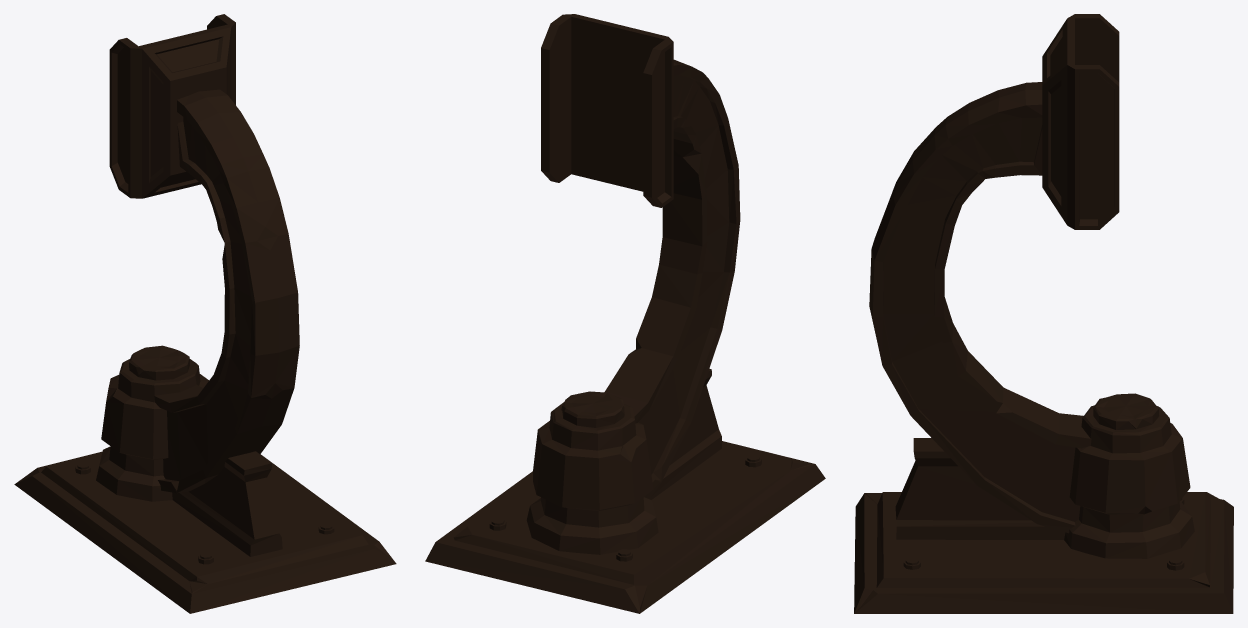
The model's file is SFFA_Steam_Hammer_002.fbx.
3 views of the same model, side by side, from view 1: azimuth 30°, elevation 25°; view 2: azimuth 150°, elevation 25°; view 3: azimuth 270°, elevation 25° (orthographic). The views are drawn at different scales.
Visible parts, largest first — view 1: SFFA_Steam_Hammer_002; view 2: SFFA_Steam_Hammer_002; view 3: SFFA_Steam_Hammer_002.
Boxes of the visible parts, x1,y1,x2,y2 form: SFFA_Steam_Hammer_002: (14, 14, 396, 613); SFFA_Steam_Hammer_002: (425, 14, 825, 613); SFFA_Steam_Hammer_002: (854, 14, 1233, 613).
Size of the model in its own units: 101 by 224 by 150.
